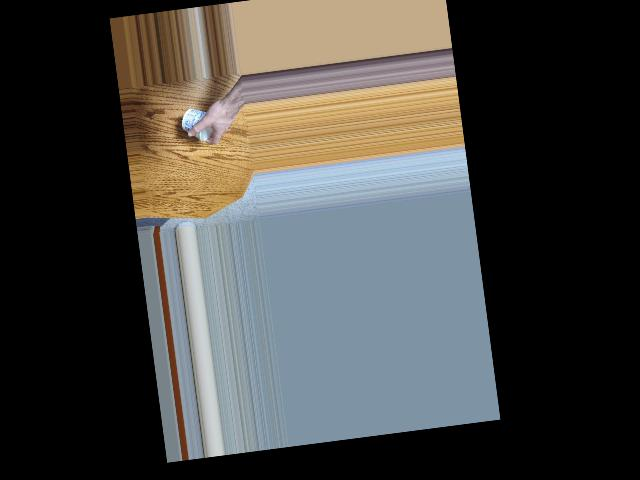cotage: (180, 109, 213, 144)
